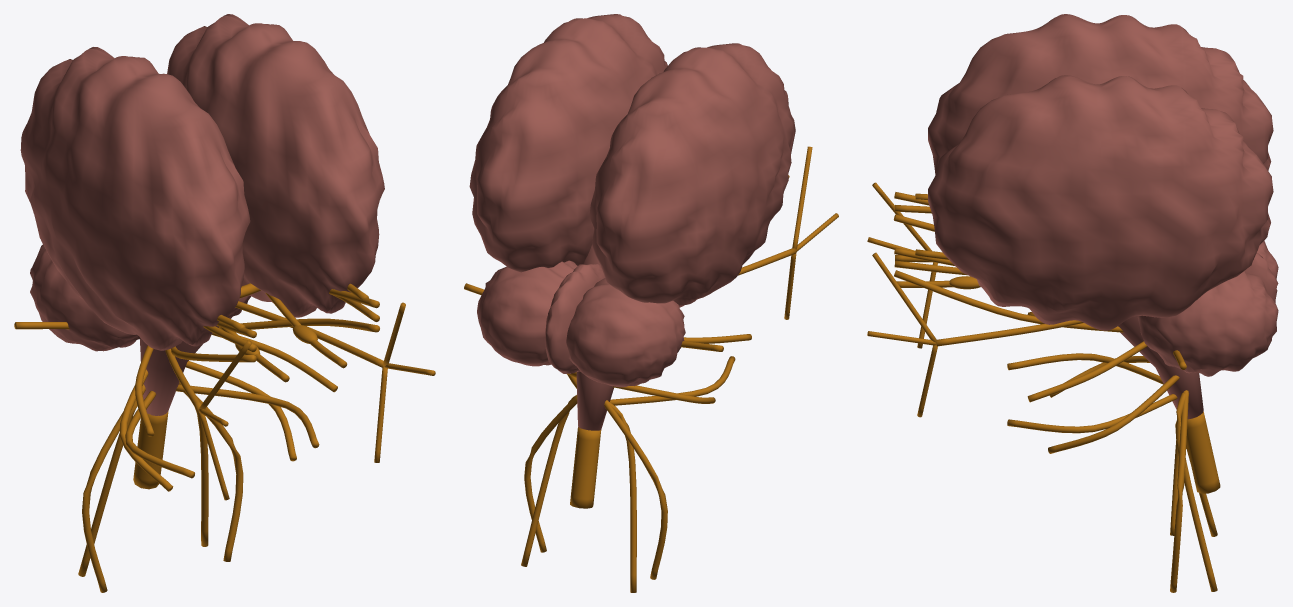
The model's file is cranial-nerves-under-the-brain.glb.
The picture shows the model from 3 angles, left to right: view 1: azimuth 30°, elevation 25°; view 2: azimuth 150°, elevation 25°; view 3: azimuth 270°, elevation 25°; orthographic projection. The views are drawn at different scales.
Visible parts, largest first — view 1: Right cerebral hemisphere with cortical gyri, Left cerebral hemisphere with cortical gyri, Right cerebellar hemisphere, Midbrain pons medulla, Upper cervical source stump for accessory roots, Right cranial nerve X vagus, Left cranial nerve X vagus, Left cranial nerve XII hypoglossal, Right cranial nerve XI accessory, Left cranial nerve IX glossopharyngeal, Left cranial nerve VI abducens, Left cranial nerve XI accessory (+8 smaller); view 2: Right cerebral hemisphere with cortical gyri, Left cerebral hemisphere with cortical gyri, Right cerebellar hemisphere, Left cerebellar hemisphere, Cerebellar vermis, Upper cervical source stump for accessory roots, Midbrain pons medulla, Right cranial nerve X vagus, Right cranial nerve XI accessory, Left cranial nerve X vagus, Left cranial nerve XI accessory, Right cranial nerve XII hypoglossal (+2 smaller); view 3: Left cerebral hemisphere with cortical gyri, Right cerebral hemisphere with cortical gyri, Left cerebellar hemisphere, Midbrain pons medulla, Upper cervical source stump for accessory roots, Left cranial nerve X vagus, Left cranial nerve VI abducens, Left cranial nerve XI accessory, Right cranial nerve XII hypoglossal, Left cranial nerve XII hypoglossal, Left cranial nerve IX glossopharyngeal, Left cranial nerve V trigeminal (+3 smaller).
Part boxes in pixels (x1,y1,x2,y2): Right cerebral hemisphere with cortical gyri: [20, 47, 250, 350]; Left cerebral hemisphere with cortical gyri: [167, 14, 384, 317]; Right cerebellar hemisphere: [30, 244, 140, 351]; Midbrain pons medulla: [139, 339, 202, 415]; Upper cervical source stump for accessory roots: [133, 411, 168, 489]; Right cranial nerve X vagus: [82, 384, 143, 592]; Left cranial nerve X vagus: [184, 392, 243, 561]; Left cranial nerve XII hypoglossal: [176, 384, 319, 448]; Right cranial nerve XI accessory: [78, 384, 145, 576]; Left cranial nerve IX glossopharyngeal: [185, 361, 296, 461]; Left cranial nerve VI abducens: [219, 318, 379, 332]; Left cranial nerve XI accessory: [179, 382, 208, 546]; Right cerebral hemisphere with cortical gyri: [589, 43, 795, 307]; Left cerebral hemisphere with cortical gyri: [469, 14, 667, 272]; Right cerebellar hemisphere: [566, 278, 685, 387]; Left cerebellar hemisphere: [477, 260, 577, 366]; Cerebellar vermis: [545, 263, 605, 373]; Upper cervical source stump for accessory roots: [570, 427, 601, 508]; Midbrain pons medulla: [576, 244, 613, 430]; Right cranial nerve X vagus: [604, 400, 667, 579]; Right cranial nerve XI accessory: [604, 402, 636, 592]; Left cranial nerve X vagus: [524, 395, 577, 552]; Left cranial nerve XI accessory: [521, 395, 575, 566]; Right cranial nerve XII hypoglossal: [610, 356, 735, 405]; Left cerebral hemisphere with cortical gyri: [928, 75, 1273, 330]; Right cerebral hemisphere with cortical gyri: [928, 14, 1273, 175]; Left cerebellar hemisphere: [1137, 271, 1278, 376]; Midbrain pons medulla: [1118, 316, 1203, 419]; Upper cervical source stump for accessory roots: [1186, 411, 1220, 493]; Left cranial nerve X vagus: [1170, 390, 1188, 592]; Left cranial nerve VI abducens: [894, 270, 1123, 332]; Left cranial nerve XI accessory: [1175, 392, 1217, 591]; Right cranial nerve XII hypoglossal: [1007, 353, 1163, 384]; Left cranial nerve XII hypoglossal: [1007, 394, 1177, 433]; Left cranial nerve IX glossopharyngeal: [1048, 375, 1179, 453]; Left cranial nerve V trigeminal: [936, 320, 1083, 346].
Bounding box in the file's own units: 0.1507 × 0.2764 × 0.1994.
Materials: 2 (2 with a texture image).
